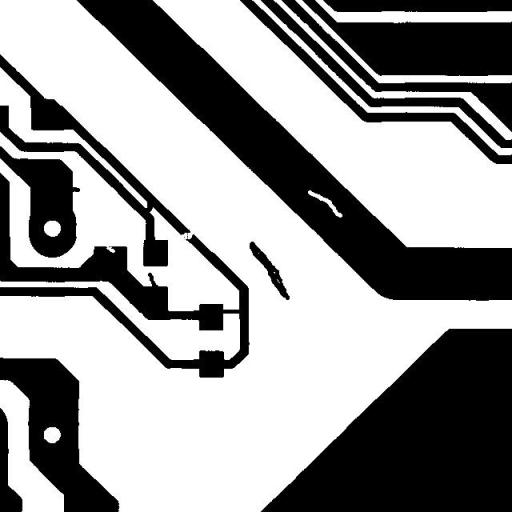copper: (242, 234, 296, 307)
mousebite: (98, 235, 122, 260)
open: (172, 222, 202, 246)
pin-hole: (300, 182, 350, 225)
short: (134, 192, 160, 222), (212, 302, 249, 320)
spur: (140, 265, 166, 296), (61, 179, 87, 199)
